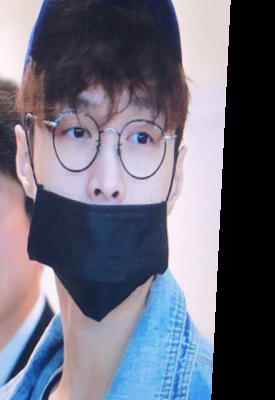mask_weared_incorrect: (1, 1, 220, 334)
